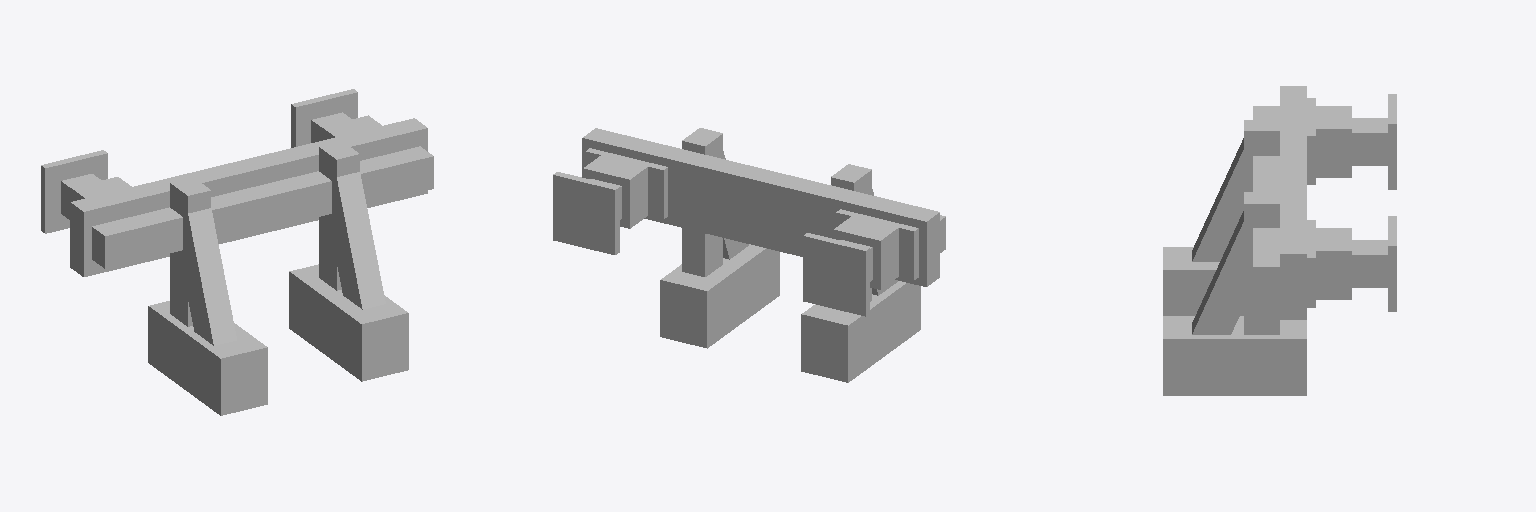
The model's file is monorail_buffer_stop.obj.
The picture shows the model from 3 angles: view 1: azimuth 30°, elevation 25°; view 2: azimuth 150°, elevation 25°; view 3: azimuth 270°, elevation 25°; orthographic projection.
Parts seen in each view (by area): view 1: cube.016, cube.013, cube, cube.012, cube.015, cube.018, cube.001, cube.017, cube.002, cube.011, cube.014, cube.019 (+5 smaller); view 2: cube.017, cube.016, cube.013, cube.007, cube.003, cube.018, cube.019, cube.014, cube.010, cube.006, cube.009, cube.005 (+1 smaller); view 3: cube.016, cube.015, cube.014, cube.019, cube.012, cube.013, cube.006, cube.010, cube.002, cube.004, cube.008, cube.017 (+7 smaller).
Boxes of the visible parts, <box> form: cube.016: <box>289,264,408,381</box>; cube.013: <box>148,301,267,415</box>; cube: <box>211,171,331,241</box>; cube.012: <box>188,208,236,345</box>; cube.015: <box>337,172,385,309</box>; cube.018: <box>70,175,183,276</box>; cube.001: <box>92,207,182,268</box>; cube.017: <box>180,145,318,243</box>; cube.002: <box>360,146,433,204</box>; cube.011: <box>170,177,210,326</box>; cube.014: <box>319,141,359,290</box>; cube.019: <box>306,118,427,207</box>; cube.017: <box>692,155,829,256</box>; cube.016: <box>660,244,779,348</box>; cube.013: <box>801,281,920,382</box>; cube.007: <box>803,233,869,316</box>; cube.003: <box>553,172,619,254</box>; cube.018: <box>817,185,939,286</box>; cube.019: <box>582,128,703,229</box>; cube.014: <box>682,128,722,276</box>; cube.010: <box>834,216,898,289</box>; cube.006: <box>583,155,647,228</box>; cube.009: <box>836,209,918,279</box>; cube.005: <box>586,148,667,218</box>; cube.016: <box>1163,316,1306,395</box>; cube.015: <box>1192,211,1243,334</box>; cube.014: <box>1244,192,1279,334</box>; cube.019: <box>1280,201,1306,319</box>; cube.012: <box>1192,138,1243,261</box>; cube.013: <box>1163,247,1243,315</box>; cube.006: <box>1316,228,1351,299</box>; cube.010: <box>1316,106,1351,177</box>; cube.002: <box>1253,228,1279,298</box>; cube.004: <box>1352,240,1387,287</box>; cube.008: <box>1352,118,1387,165</box>; cube.017: <box>1280,139,1306,200</box>.
Bounding box in the file's own units: 2.75 × 1.44 × 1.62.